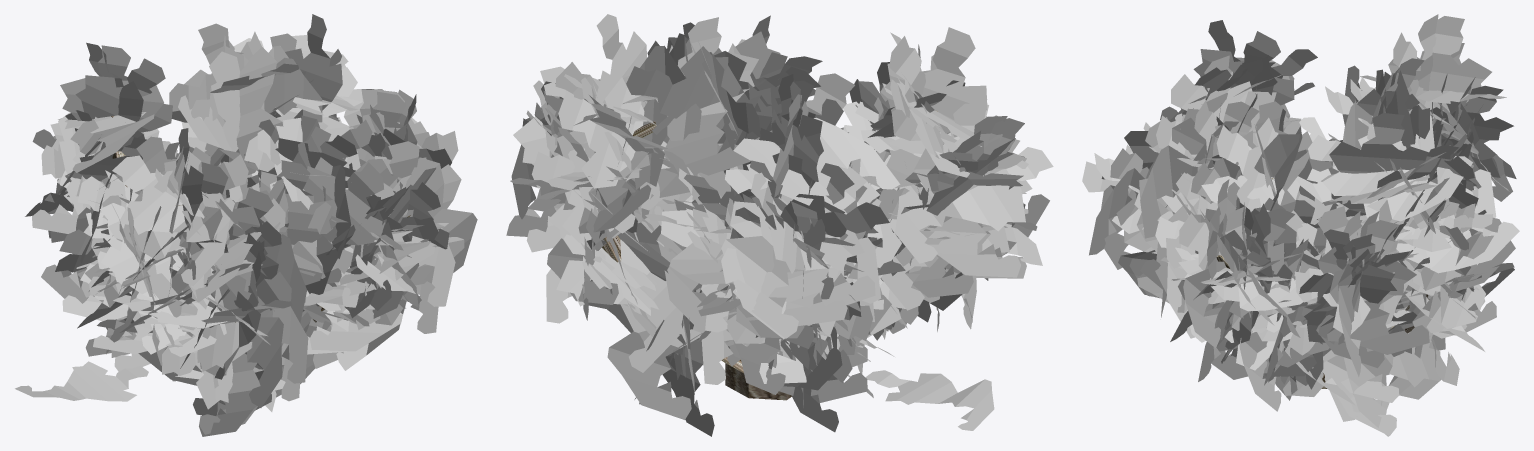
File: trap_park.fbx
The picture shows the model from 3 angles, left to right: view 1: azimuth 30°, elevation 25°; view 2: azimuth 150°, elevation 25°; view 3: azimuth 270°, elevation 25°; orthographic projection. The views are drawn at different scales.
Visible parts, largest first — view 1: Куб|Tree Branch|Dupli|137, Куб|Tree Branch|Dupli|161, Куб|Tree Branch|Dupli|77, Куб|Tree Branch|Dupli|200, Куб|Tree Branch|Dupli|79, Куб|Tree Branch|Dupli|108, Tree Branch, Куб|Tree Branch|Dupli|169, Куб|Tree Branch|Dupli|162, Куб|Tree Branch|Dupli|20, Куб|Tree Branch|Dupli|212, Куб|Tree Branch|Dupli|85 (+74 smaller); view 2: Куб|Tree Branch|Dupli|65, Куб|Tree Branch|Dupli|275, Куб|Tree Branch|Dupli|37, Куб|Tree Branch|Dupli|250, Куб|Tree Branch|Dupli|86, Куб|Tree Branch|Dupli|187, Куб|Tree Branch|Dupli|281, Куб|Tree Branch|Dupli|91, Куб|Tree Branch|Dupli|223, Куб|Tree Branch|Dupli|201, Tree Branch, Куб|Tree Branch|Dupli|258 (+74 smaller); view 3: Куб|Tree Branch|Dupli|198, Куб|Tree Branch|Dupli|16, Куб|Tree Branch|Dupli|165, Куб|Tree Branch|Dupli|104, Куб|Tree Branch|Dupli|114, Куб|Tree Branch|Dupli|276, Куб|Tree Branch|Dupli|13, Куб|Tree Branch|Dupli|85, Куб|Tree Branch|Dupli|241, Куб|Tree Branch|Dupli|58, Куб|Tree Branch|Dupli|76, Куб|Tree Branch|Dupli|275 (+89 smaller).
Boxes of the visible parts, box(x1,y1,x2,y2) form: Куб|Tree Branch|Dupli|137: box(112, 155, 234, 286); Куб|Tree Branch|Dupli|161: box(292, 162, 384, 278); Куб|Tree Branch|Dupli|77: box(184, 23, 283, 174); Куб|Tree Branch|Dupli|200: box(168, 272, 308, 383); Куб|Tree Branch|Dupli|79: box(32, 58, 172, 149); Куб|Tree Branch|Dupli|108: box(169, 45, 322, 147); Tree Branch: box(15, 361, 148, 401); Куб|Tree Branch|Dupli|169: box(102, 151, 248, 260); Куб|Tree Branch|Dupli|162: box(100, 203, 186, 354); Куб|Tree Branch|Dupli|20: box(260, 160, 337, 285); Куб|Tree Branch|Dupli|212: box(191, 45, 288, 151); Куб|Tree Branch|Dupli|85: box(355, 157, 477, 272); Куб|Tree Branch|Dupli|65: box(895, 147, 1053, 263); Куб|Tree Branch|Dupli|275: box(626, 46, 814, 144); Куб|Tree Branch|Dupli|37: box(725, 117, 900, 205); Куб|Tree Branch|Dupli|250: box(850, 27, 987, 189); Куб|Tree Branch|Dupli|86: box(656, 17, 758, 175); Куб|Tree Branch|Dupli|187: box(558, 77, 664, 210); Куб|Tree Branch|Dupli|281: box(547, 204, 683, 372); Куб|Tree Branch|Dupli|91: box(751, 166, 867, 338); Куб|Tree Branch|Dupli|223: box(607, 288, 703, 419); Куб|Tree Branch|Dupli|201: box(919, 104, 1028, 277); Tree Branch: box(865, 370, 994, 430); Куб|Tree Branch|Dupli|258: box(730, 201, 875, 307); Куб|Tree Branch|Dupli|198: box(1308, 135, 1472, 221); Куб|Tree Branch|Dupli|16: box(1329, 113, 1428, 209); Куб|Tree Branch|Dupli|165: box(1388, 16, 1491, 168); Куб|Tree Branch|Dupli|104: box(1300, 206, 1429, 354); Куб|Tree Branch|Dupli|114: box(1302, 220, 1416, 368); Куб|Tree Branch|Dupli|276: box(1140, 121, 1239, 238); Куб|Tree Branch|Dupli|13: box(1216, 117, 1333, 231); Куб|Tree Branch|Dupli|85: box(1183, 182, 1239, 348); Куб|Tree Branch|Dupli|241: box(1201, 117, 1330, 211); Куб|Tree Branch|Dupli|58: box(1205, 134, 1338, 201); Куб|Tree Branch|Dupli|76: box(1396, 214, 1519, 273); Куб|Tree Branch|Dupli|275: box(1342, 65, 1429, 148).
Bounding box in the file's own units: 1558 × 1216 × 1390.
